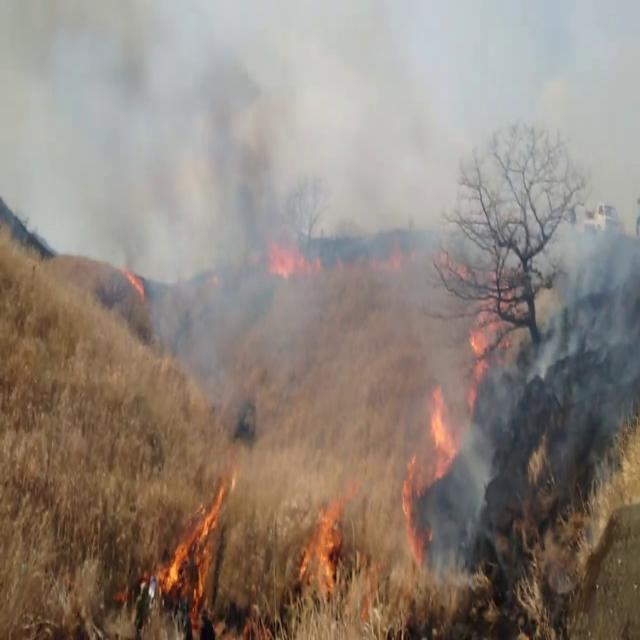Fire: (398, 372, 460, 596), (154, 472, 232, 630), (296, 482, 352, 597), (460, 276, 507, 404), (265, 236, 301, 288), (122, 260, 148, 308)
Smoke: (73, 0, 452, 361), (506, 170, 640, 386)
